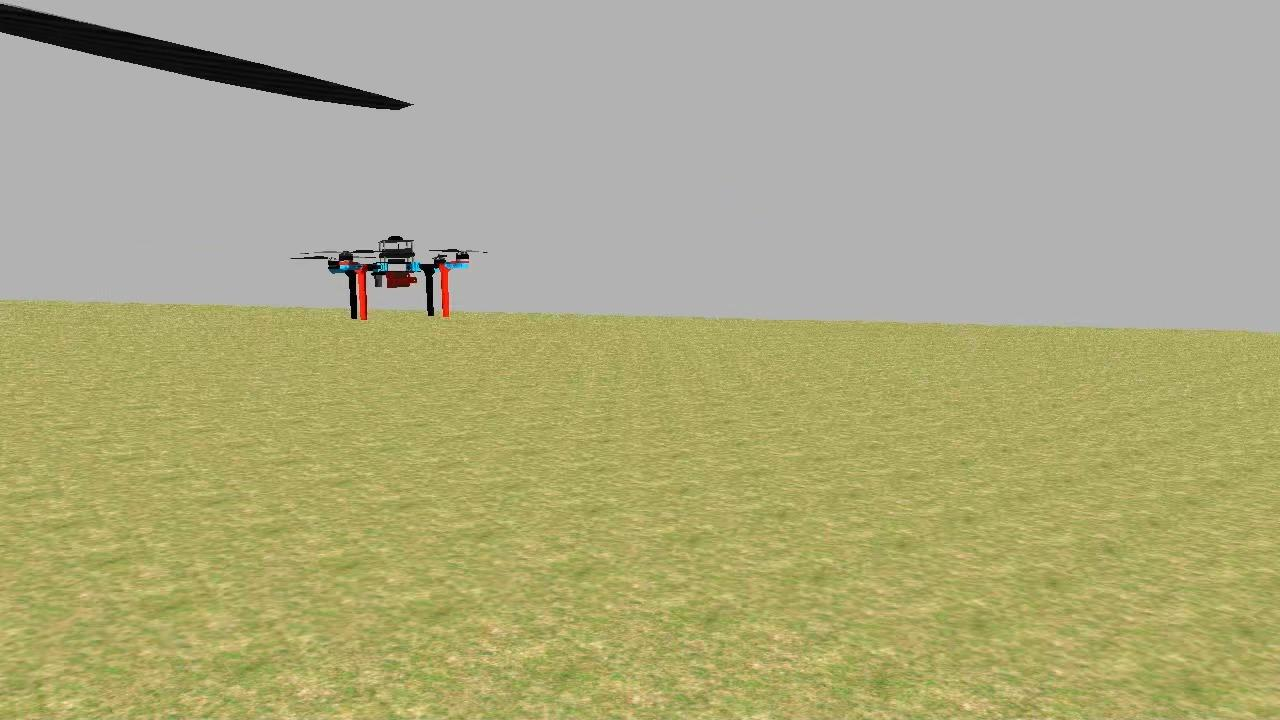UAV: (316, 226, 476, 331)
